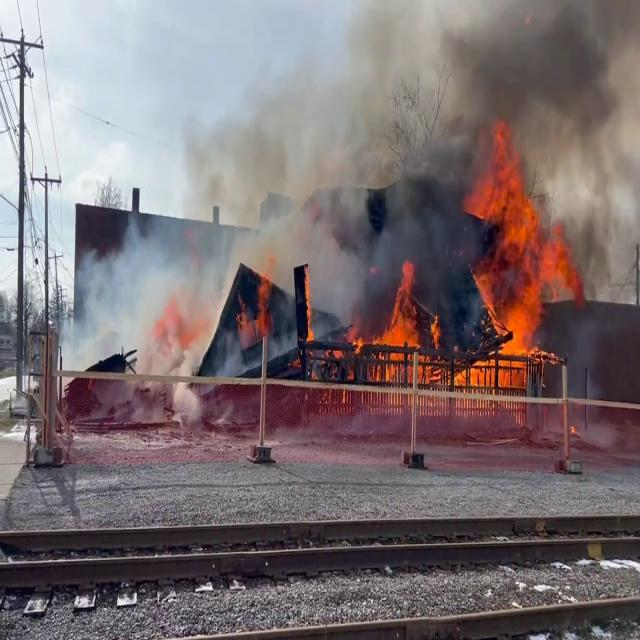Fire: (464, 134, 580, 373), (354, 248, 434, 386), (300, 264, 316, 342)
Smoke: (59, 0, 480, 389)
